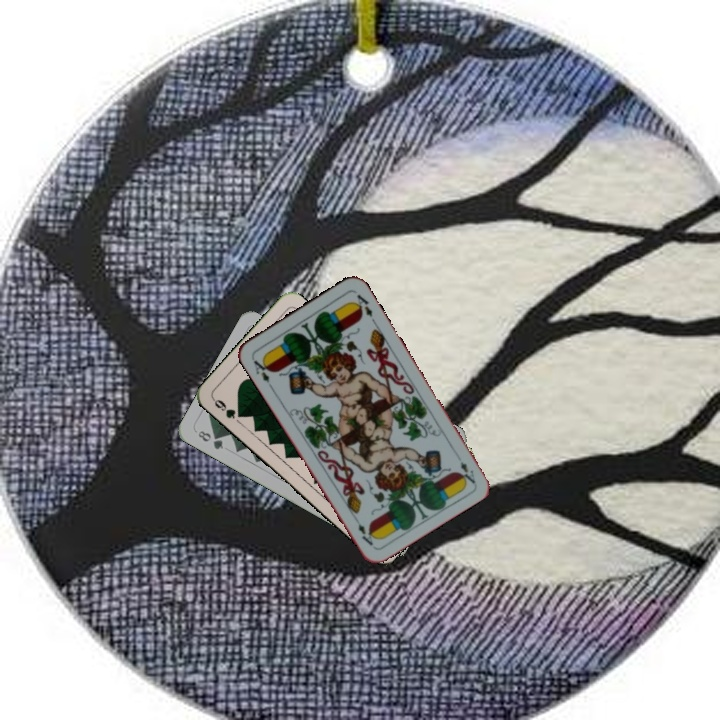EA: (248, 354, 275, 390), (456, 458, 478, 486)
G8: (194, 426, 226, 452)
G9: (209, 395, 247, 421)
